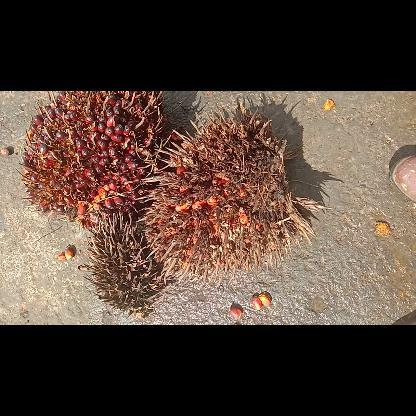Janjang kosong: (81, 213, 170, 318)
TBS masak: (17, 91, 169, 229)
Terlalu masak: (136, 101, 317, 284)
